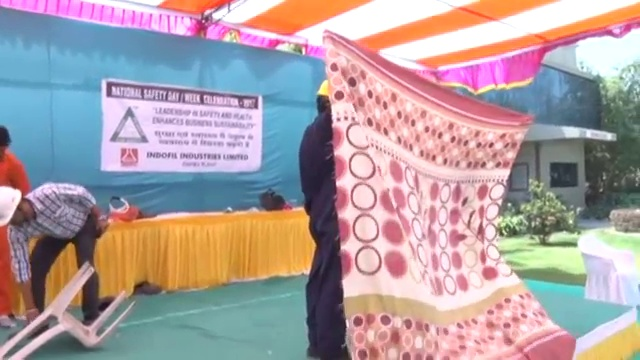helmet: (1, 185, 20, 228), (316, 76, 331, 101)
helmet_on: (1, 184, 36, 231), (314, 74, 332, 117)
person: (1, 181, 108, 338), (297, 74, 349, 360), (1, 127, 30, 329)
